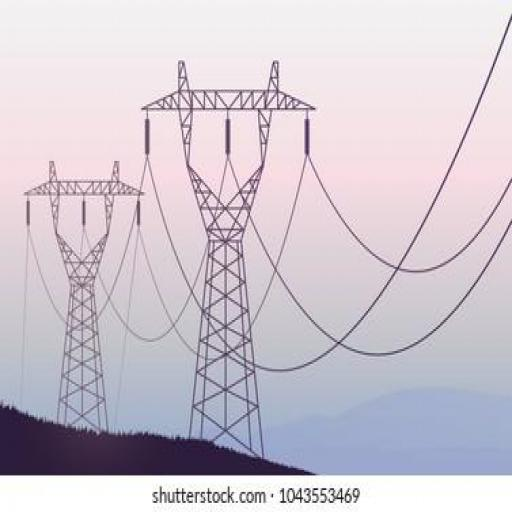wt_5: (140, 64, 319, 459), (24, 157, 146, 439)
